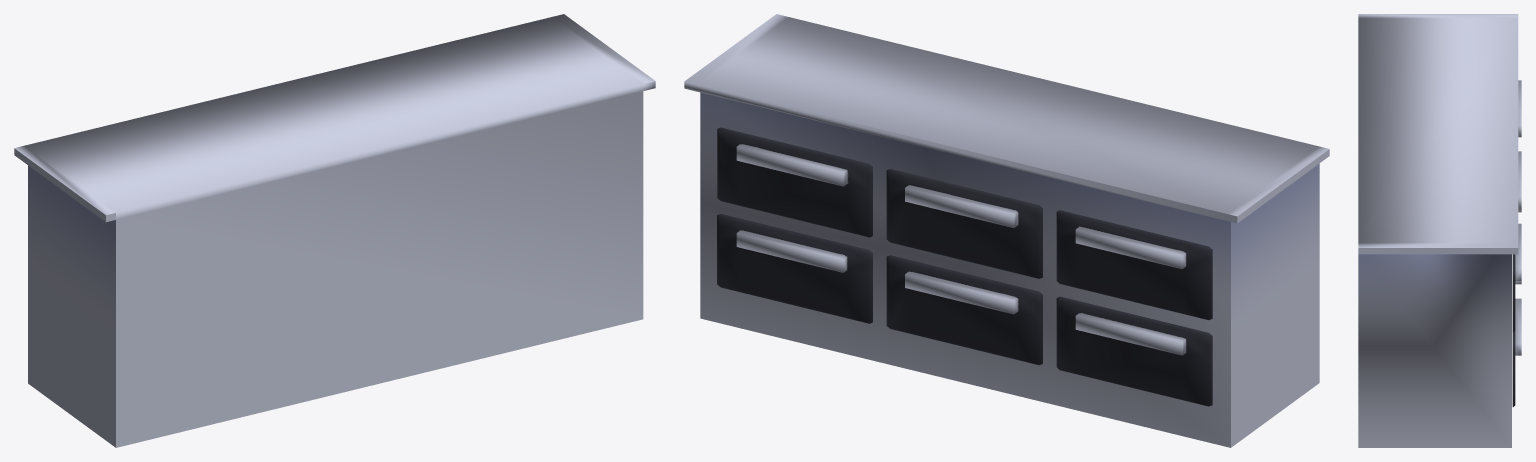
The model's file is DresserTest.fbx.
3 renders of one model, left to right at view 1: azimuth 30°, elevation 25°; view 2: azimuth 150°, elevation 25°; view 3: azimuth 270°, elevation 25°, orthographic. The views are drawn at different scales.
Visible parts, largest first — view 1: Edge2; view 2: Edge2, Drawer4; view 3: Edge2, Drawer4.
Boxes of the visible parts, x1,y1,x2,y2 form: Edge2: (14, 14, 655, 447); Edge2: (684, 14, 1329, 447); Drawer4: (717, 127, 1212, 406); Edge2: (1358, 14, 1518, 447); Drawer4: (1512, 80, 1521, 406).
Bounding box in the file's own units: 810 × 331 × 239.
